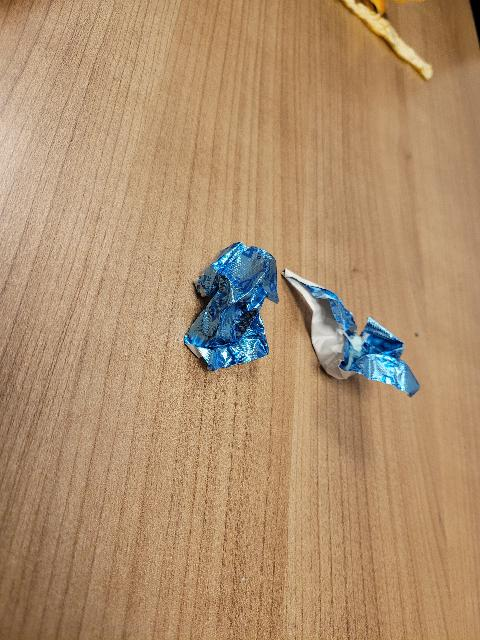Plastik: (279, 259, 428, 406), (165, 229, 273, 403)
